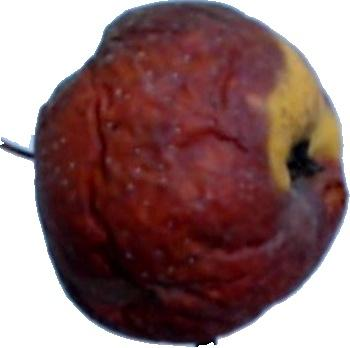Apple Overripe: (0, 0, 350, 344)
